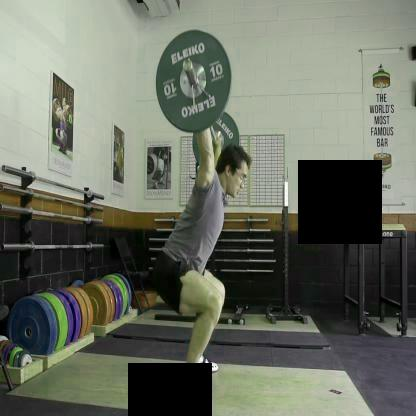barbell: (157, 29, 232, 134)
